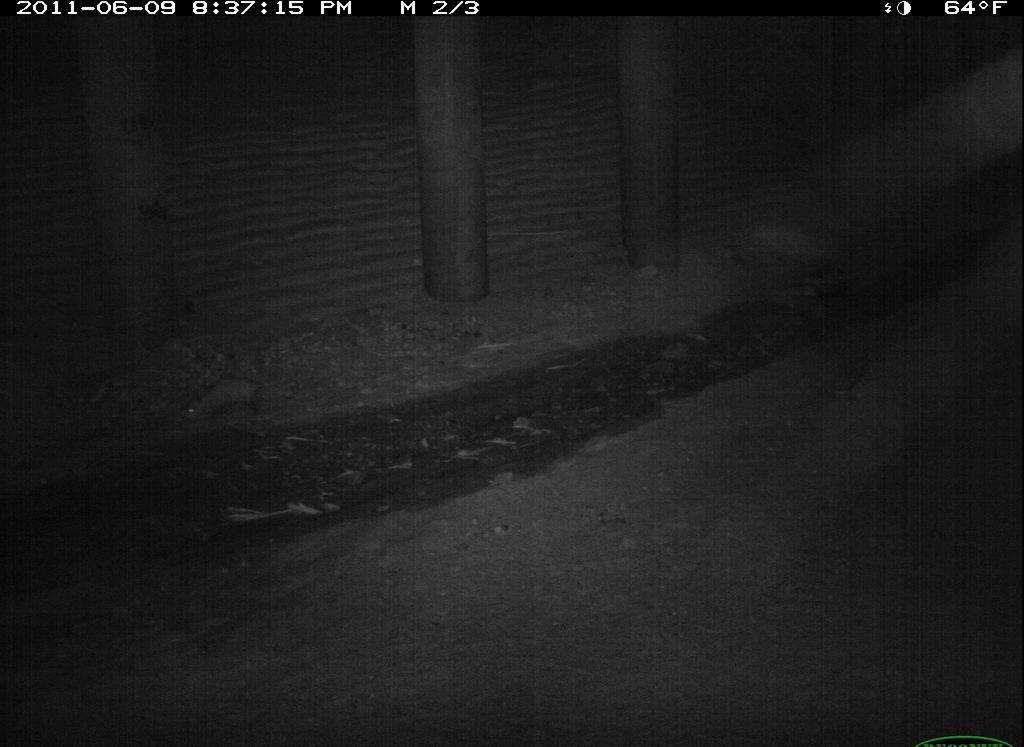opossum: (354, 732, 595, 747)
